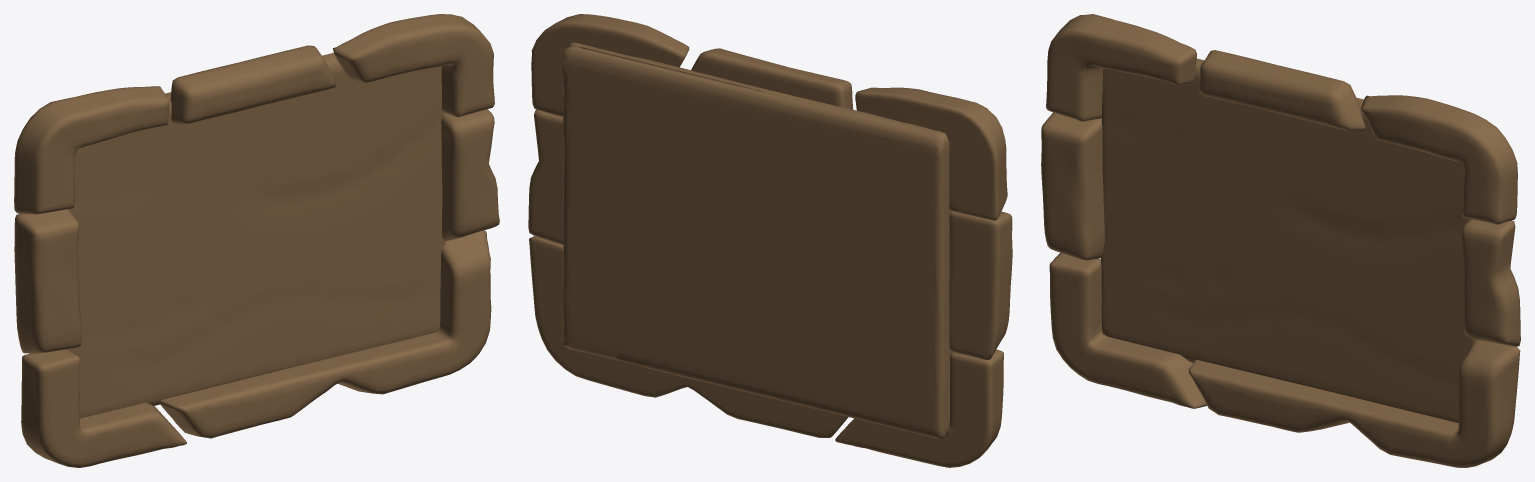
The model's file is MataG_PII_HarvestHero_BotonesMenu_LP.fbx.
3 renders of one model, left to right at view 1: azimuth 30°, elevation 25°; view 2: azimuth 150°, elevation 25°; view 3: azimuth 330°, elevation 25°, orthographic.
Parts seen in each view (by area): view 1: LowPoly; view 2: LowPoly; view 3: LowPoly.
Part boxes in pixels (x1,y1,x2,y2): LowPoly: (14, 14, 499, 467); LowPoly: (528, 14, 1012, 467); LowPoly: (1041, 14, 1520, 467).
Bounding box in the file's own units: 678 × 500 × 70.77.
